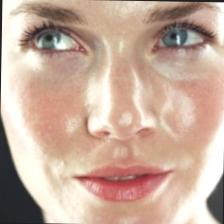Oily: (1, 0, 224, 224)
